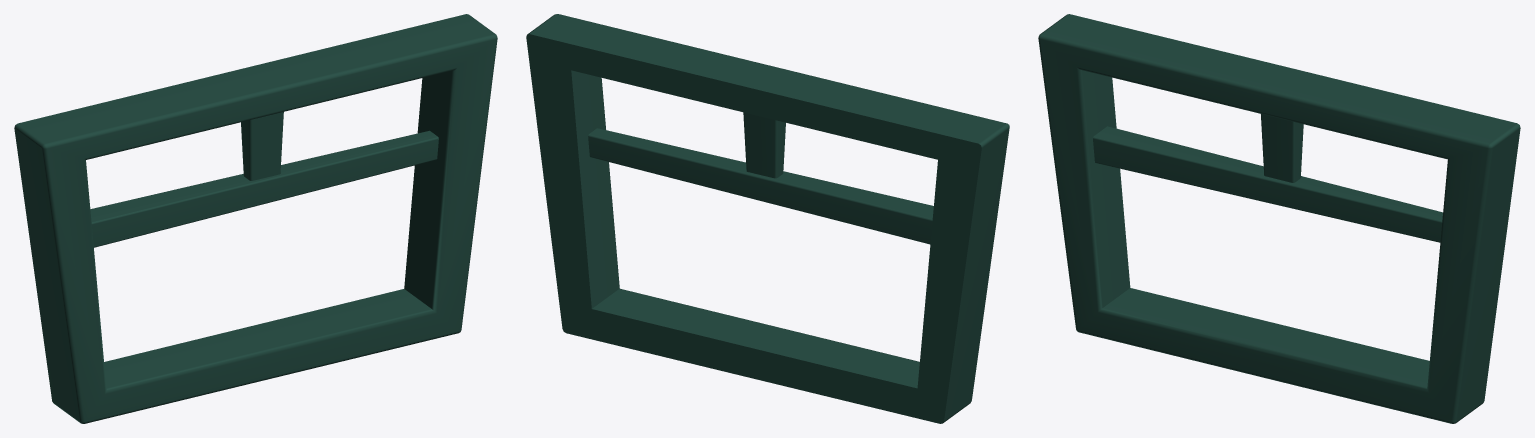
Rendered from SM_Kitchen_Window.fbx.
3 views of the same model, side by side, from view 1: azimuth 30°, elevation 25°; view 2: azimuth 150°, elevation 25°; view 3: azimuth 330°, elevation 25° (orthographic).
Visible parts, largest first — view 1: SM_Kitchen_Window_LOD0; view 2: SM_Kitchen_Window_LOD0; view 3: SM_Kitchen_Window_LOD0.
Boxes of the visible parts, x1=… form: SM_Kitchen_Window_LOD0: x1=14, y1=14, x2=497, y2=423; SM_Kitchen_Window_LOD0: x1=526, y1=14, x2=1009, y2=423; SM_Kitchen_Window_LOD0: x1=1038, y1=14, x2=1520, y2=423.
Size of the model in its own units: 203 by 22.83 by 124.
